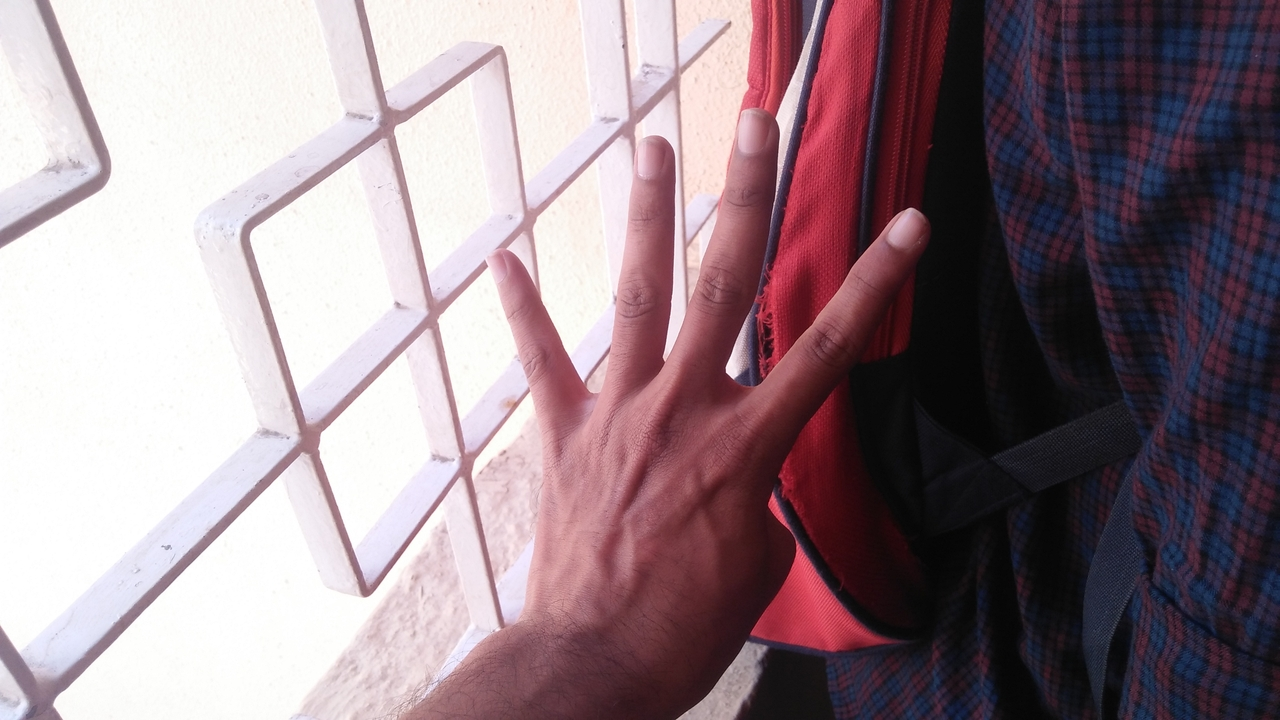fingertip: (876, 198, 942, 258), (616, 128, 684, 182), (728, 104, 782, 161), (477, 242, 521, 290)
